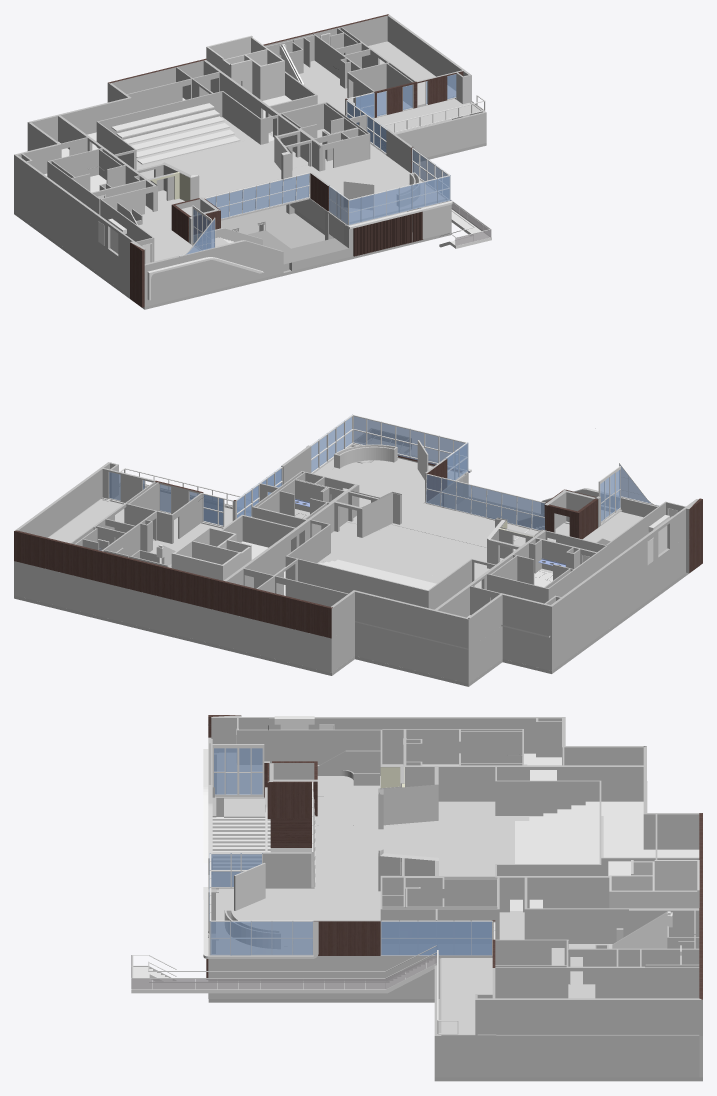
Rendered from 2222_ Building_ 2.glb.
3 renders of one model, top to bottom at view 1: azimuth 30°, elevation 25°; view 2: azimuth 150°, elevation 25°; view 3: azimuth 270°, elevation 25°, orthographic. The views are drawn at different scales.
Visible parts, largest first — view 1: Ground Floor.004, Ground Floor.003, Basement, Group4.008, Exterior_Stairs.005, Group6.008; view 2: Ground Floor.004, Basement, Ground Floor.003, Group4.008, Group6.008; view 3: Ground Floor.004, Ground Floor.003, Basement, Exterior_Stairs.005, Entry_Stai.005, CUSTOM_STA.003, Group6.008.
Part boxes in pixels (x1,y1,x2,y2): Ground Floor.004: [14, 14, 486, 307]; Ground Floor.003: [44, 41, 482, 261]; Basement: [14, 95, 486, 309]; Group4.008: [349, 176, 450, 224]; Exterior_Stairs.005: [439, 208, 491, 248]; Group6.008: [329, 186, 347, 224]; Ground Floor.004: [14, 414, 702, 649]; Basement: [14, 445, 698, 686]; Ground Floor.003: [49, 446, 643, 649]; Group4.008: [353, 416, 465, 469]; Group6.008: [446, 443, 468, 484]; Ground Floor.004: [149, 715, 702, 1035]; Ground Floor.003: [216, 753, 699, 1035]; Basement: [206, 753, 702, 1081]; Exterior_Stairs.005: [131, 956, 436, 993]; Entry_Stai.005: [212, 817, 270, 872]; CUSTOM_STA.003: [612, 911, 672, 948]; Group6.008: [210, 853, 262, 886].
Size of the model in its own units: 0.6203 by 0.1216 by 0.5535.
24 materials, 5 textured.
